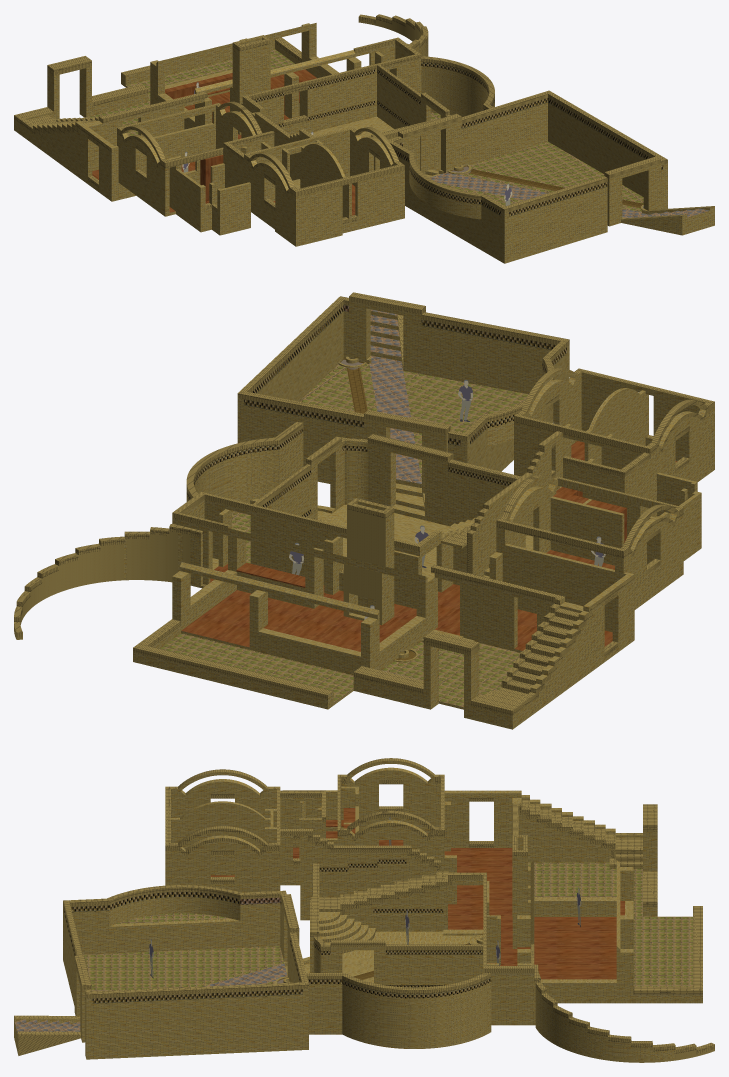
The model's file is muros.glb.
3 renders of one model, top to bottom at view 1: azimuth 30°, elevation 25°; view 2: azimuth 150°, elevation 25°; view 3: azimuth 270°, elevation 25°, orthographic. The views are drawn at different scales.
Parts seen in each view (by area): view 1: 13739876; view 2: 13739876, Chris; view 3: 13739876, Chris.
Part boxes in pixels (<box>): 13739876: <box>14,14,714,263</box>; 13739876: <box>14,292,714,729</box>; Chris: <box>289,380,605,619</box>; 13739876: <box>14,758,714,1062</box>; Chris: <box>149,817,581,978</box>.
Size of the model in its own units: 22.41 by 5.51 by 29.74.
16 materials, 16 textured.
